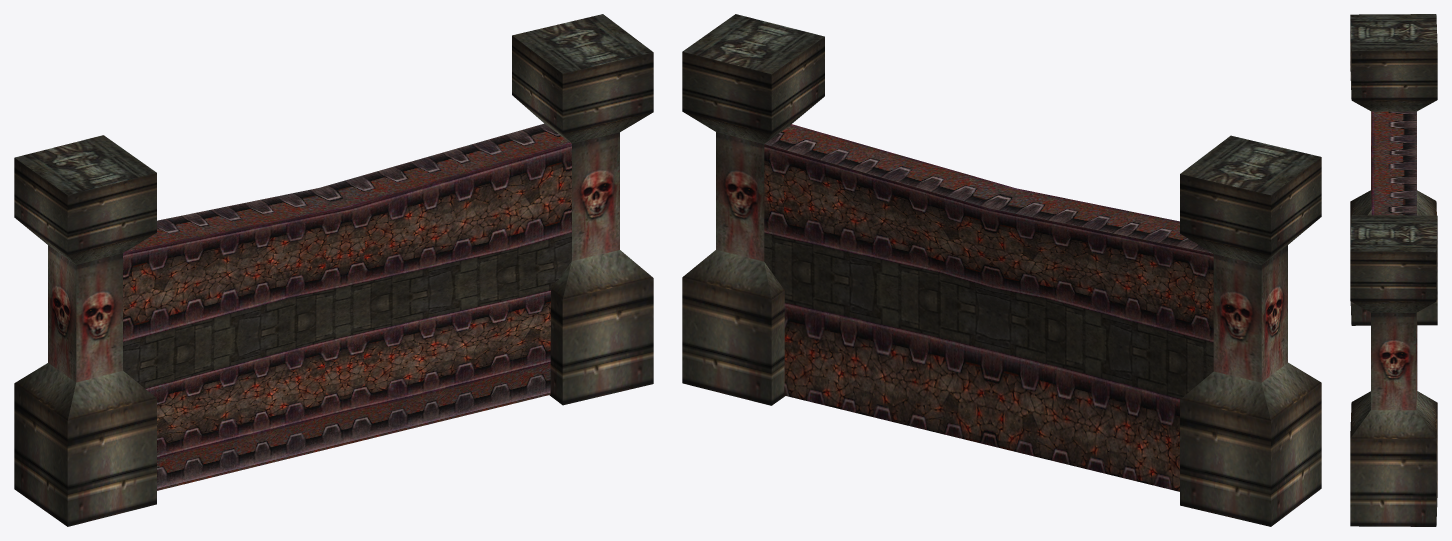
File: wall-02.FBX
3 renders of one model, left to right at view 1: azimuth 30°, elevation 25°; view 2: azimuth 150°, elevation 25°; view 3: azimuth 270°, elevation 25°, orthographic. The views are drawn at different scales.
Parts seen in each view (by area): view 1: wall-02; view 2: wall-02; view 3: wall-02.
Part boxes in pixels (x1,y1,x2,y2): wall-02: (14,14,653,526); wall-02: (682,14,1321,526); wall-02: (1350,14,1437,526).
Size of the model in its own units: 5.15 by 2.77 by 0.8002.
